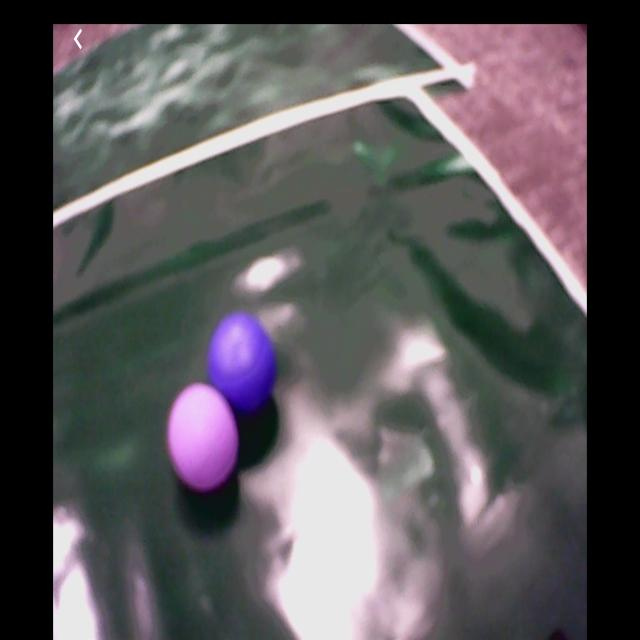ball: (206, 310, 278, 415), (168, 387, 240, 490)
